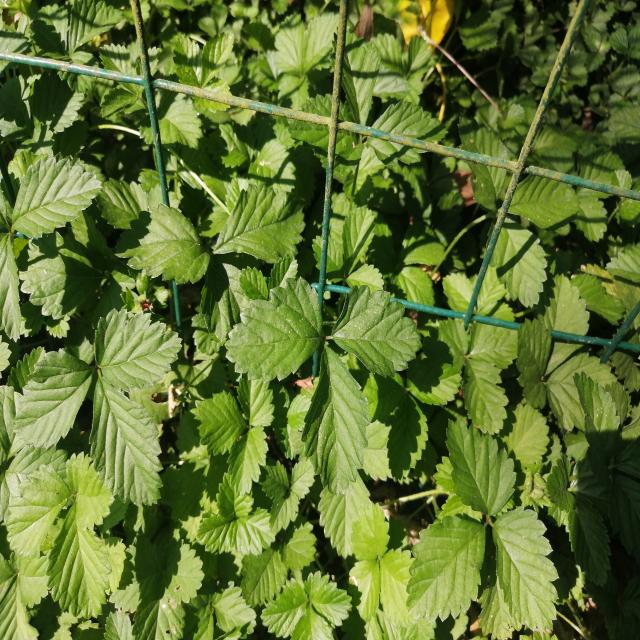Mock_strawberry: (220, 246, 413, 485), (4, 318, 181, 499)
